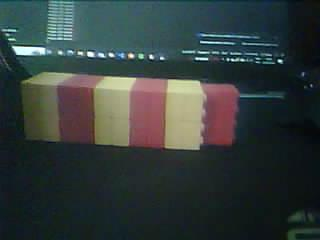lego: (20, 70, 240, 153)
